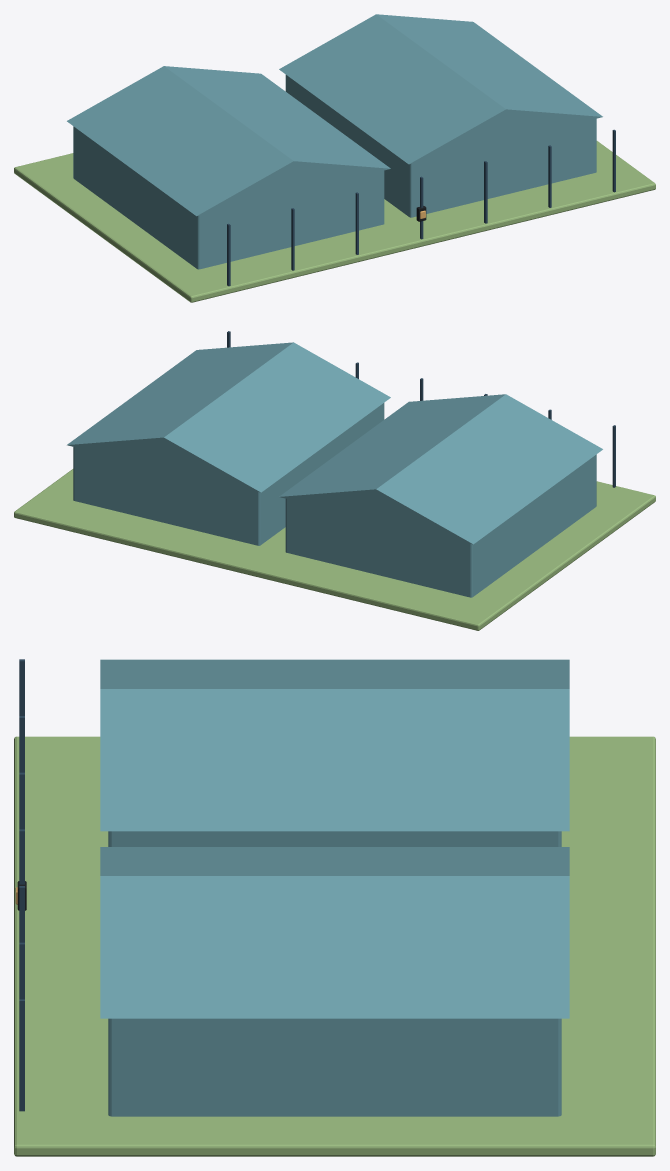
The model's file is AGR_GREENHOUSE_3x2_001.glb.
The picture shows the model from 3 angles, top to bottom: view 1: azimuth 30°, elevation 25°; view 2: azimuth 150°, elevation 25°; view 3: azimuth 270°, elevation 25°; orthographic projection. The views are drawn at different scales.
Parts seen in each view (by area): view 1: AGR_GREENHOUSE_3x2_001_Visual; view 2: AGR_GREENHOUSE_3x2_001_Visual; view 3: AGR_GREENHOUSE_3x2_001_Visual.
Part boxes in pixels (x1,y1,x2,y2): AGR_GREENHOUSE_3x2_001_Visual: (14, 14, 655, 302); AGR_GREENHOUSE_3x2_001_Visual: (14, 331, 655, 630); AGR_GREENHOUSE_3x2_001_Visual: (14, 659, 655, 1156).
Size of what is drawn, in the model's own units: 5.9 by 1.14 by 3.9.
